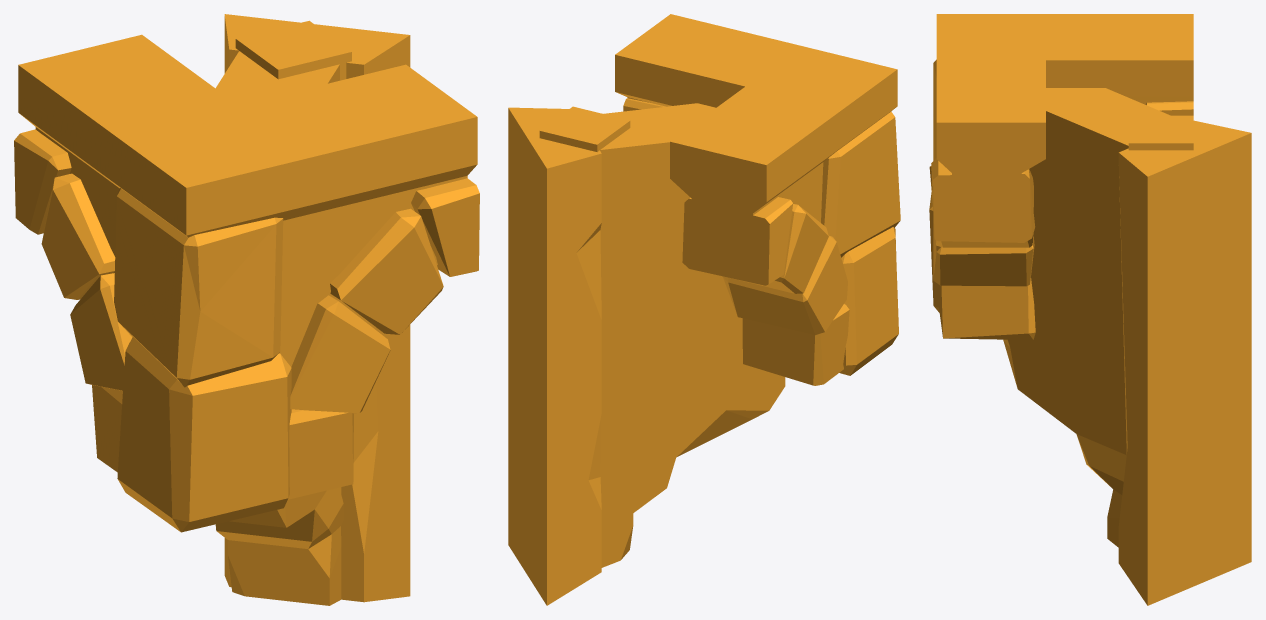
File: SM_Machicolations_Corner_A_Fantasy.fbx
3 views of the same model, side by side, from view 1: azimuth 30°, elevation 25°; view 2: azimuth 150°, elevation 25°; view 3: azimuth 270°, elevation 25° (orthographic). The views are drawn at different scales.
Parts seen in each view (by area): view 1: SM_Machicolations_Corner_A_Fantasy; view 2: SM_Machicolations_Corner_A_Fantasy; view 3: SM_Machicolations_Corner_A_Fantasy.
Boxes of the visible parts, x1,y1,x2,y2 form: SM_Machicolations_Corner_A_Fantasy: (14, 14, 479, 605); SM_Machicolations_Corner_A_Fantasy: (508, 14, 900, 605); SM_Machicolations_Corner_A_Fantasy: (929, 14, 1251, 605).
Size of the model in its own units: 1.62 by 2.5 by 1.6.
